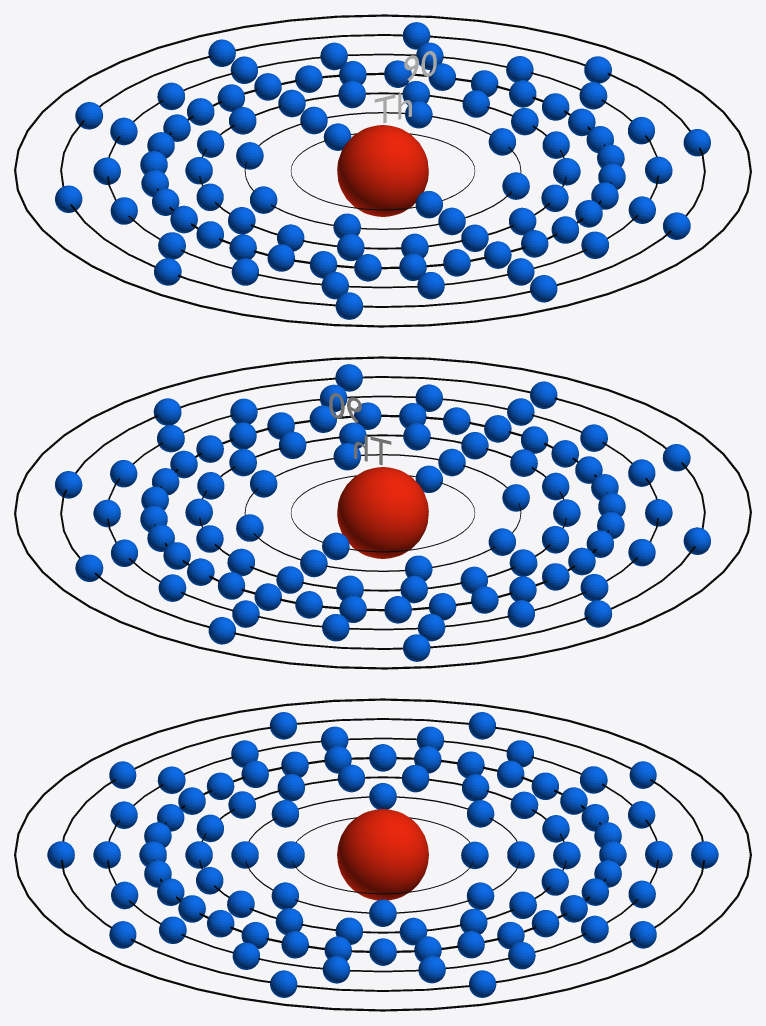
The picture shows the model from 3 angles, top to bottom: view 1: azimuth 30°, elevation 25°; view 2: azimuth 150°, elevation 25°; view 3: azimuth 270°, elevation 25°; orthographic projection.
Parts seen in each view (by area): view 1: Th4, Th5, Th3, Proton, Th6, n7, Th2, n6, n5, Th1, n3, n4 (+1 smaller); view 2: Th4, Th5, Th3, Proton, Th6, Th2, n7, n6, n5, Th1, n3, n4 (+1 smaller); view 3: Th4, Th3, Th5, Proton, Th6, Th2, n7, n6, n5, Th1, n3, n4 (+2 smaller).
Part boxes in pixels (x1,y1,x2,y2): Th4: [140, 60, 625, 281]; Th5: [93, 42, 672, 299]; Th3: [185, 80, 580, 261]; Proton: [337, 125, 428, 216]; Th6: [55, 22, 710, 319]; n7: [14, 14, 751, 327]; Th2: [236, 101, 529, 238]; n6: [60, 34, 705, 307]; n5: [107, 53, 658, 288]; Th1: [323, 123, 442, 218]; n3: [199, 92, 566, 249]; n4: [152, 72, 611, 269]; Th4: [140, 402, 625, 623]; Th5: [93, 384, 672, 641]; Th3: [185, 422, 580, 603]; Proton: [337, 467, 428, 558]; Th6: [55, 364, 710, 661]; Th2: [236, 443, 529, 580]; n7: [14, 356, 751, 669]; n6: [60, 376, 705, 649]; n5: [107, 395, 658, 630]; Th1: [322, 465, 442, 560]; n3: [199, 434, 566, 591]; n4: [153, 414, 613, 611]; Th4: [139, 744, 626, 965]; Th3: [185, 764, 580, 945]; Th5: [93, 726, 672, 983]; Proton: [337, 809, 428, 900]; Th6: [47, 712, 718, 997]; Th2: [231, 783, 534, 926]; n7: [14, 698, 751, 1011]; n6: [61, 718, 704, 991]; n5: [107, 737, 658, 972]; Th1: [277, 841, 488, 869]; n3: [199, 776, 566, 933]; n4: [153, 757, 612, 952].
Size of the model in its own units: 802 by 180 by 802.
